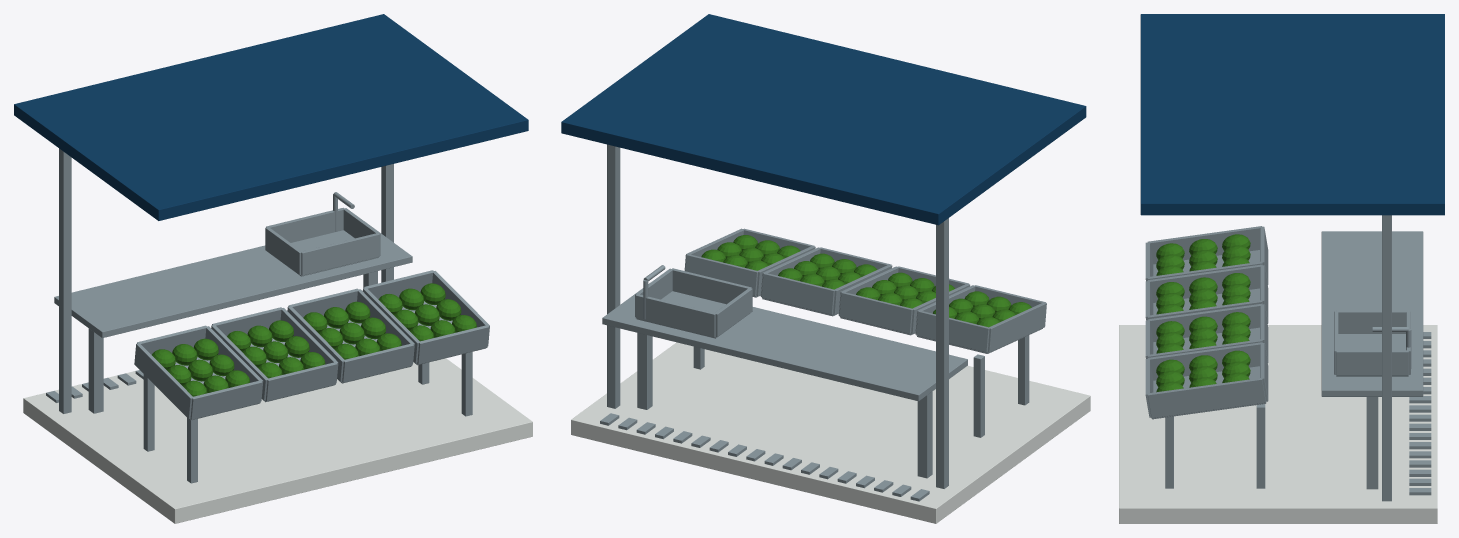
3 renders of one model, left to right at view 1: azimuth 30°, elevation 25°; view 2: azimuth 150°, elevation 25°; view 3: azimuth 270°, elevation 25°, orthographic. The views are drawn at different scales.
Visible parts, largest first — view 1: AWNING, WASHABLE_Base, PREP_Counter, AWNING_Post.001, PRODUCE_LeafHeads.003, PRODUCE_LeafHeads.002, PRODUCE_LeafHeads.001, PRODUCE_LeafHeads, WASH_Sink_End, PRODUCE_Bin_End, PRODUCE_Bin_End.002, PRODUCE_Bin_End.004 (+21 smaller); view 2: AWNING, WASHABLE_Base, PREP_Counter, AWNING_Post.001, AWNING_Post, DRAIN_Grate, WASH_Sink_End.001, PRODUCE_LeafHeads, PRODUCE_LeafHeads.003, PRODUCE_Bin_End.003, PRODUCE_Bin_End.005, PRODUCE_LeafHeads.001 (+12 smaller); view 3: AWNING, WASHABLE_Base, PREP_Counter, PRODUCE_Bin_Side.007, AWNING_Post, DRAIN_Grate, PRODUCE_LeafHeads.001, PRODUCE_LeafHeads, PRODUCE_LeafHeads.002, PRODUCE_LeafHeads.003, WASH_Sink_Side.001, PRODUCE_Bin_Side.004 (+13 smaller).
Part boxes in pixels (<box>): AWNING: <box>14,14,528,220</box>; WASHABLE_Base: <box>23,358,532,523</box>; PREP_Counter: <box>54,231,412,337</box>; AWNING_Post.001: <box>59,148,71,413</box>; PRODUCE_LeafHeads.003: <box>303,301,401,359</box>; PRODUCE_LeafHeads.002: <box>227,320,325,378</box>; PRODUCE_LeafHeads.001: <box>152,338,249,396</box>; PRODUCE_LeafHeads: <box>378,283,476,341</box>; WASH_Sink_End: <box>301,233,379,275</box>; PRODUCE_Bin_End: <box>190,380,262,419</box>; PRODUCE_Bin_End.002: <box>265,362,337,401</box>; PRODUCE_Bin_End.004: <box>342,343,413,382</box>; AWNING: <box>561,14,1086,225</box>; WASHABLE_Base: <box>571,342,1090,523</box>; PREP_Counter: <box>602,283,967,401</box>; AWNING_Post.001: <box>936,218,948,488</box>; AWNING_Post: <box>607,144,620,408</box>; DRAIN_Grate: <box>600,413,929,501</box>; WASH_Sink_End.001: <box>635,294,715,337</box>; PRODUCE_LeafHeads: <box>701,235,800,270</box>; PRODUCE_LeafHeads.003: <box>778,253,877,289</box>; PRODUCE_Bin_End.003: <box>839,292,912,333</box>; PRODUCE_Bin_End.005: <box>761,273,834,314</box>; PRODUCE_LeafHeads.001: <box>933,291,1031,327</box>; AWNING: <box>1140,14,1444,215</box>; WASHABLE_Base: <box>1119,325,1437,523</box>; PREP_Counter: <box>1321,231,1423,396</box>; PRODUCE_Bin_Side.007: <box>1147,378,1265,418</box>; AWNING_Post: <box>1382,215,1391,501</box>; DRAIN_Grate: <box>1409,332,1431,495</box>; PRODUCE_LeafHeads.001: <box>1156,234,1250,275</box>; PRODUCE_LeafHeads: <box>1156,350,1250,392</box>; PRODUCE_LeafHeads.002: <box>1156,273,1250,314</box>; PRODUCE_LeafHeads.003: <box>1156,312,1250,353</box>; WASH_Sink_Side.001: <box>1336,350,1408,375</box>; PRODUCE_Bin_Side.004: <box>1147,303,1262,341</box>.
Bounding box in the file's own units: 3.1 × 2.47 × 2.25.
